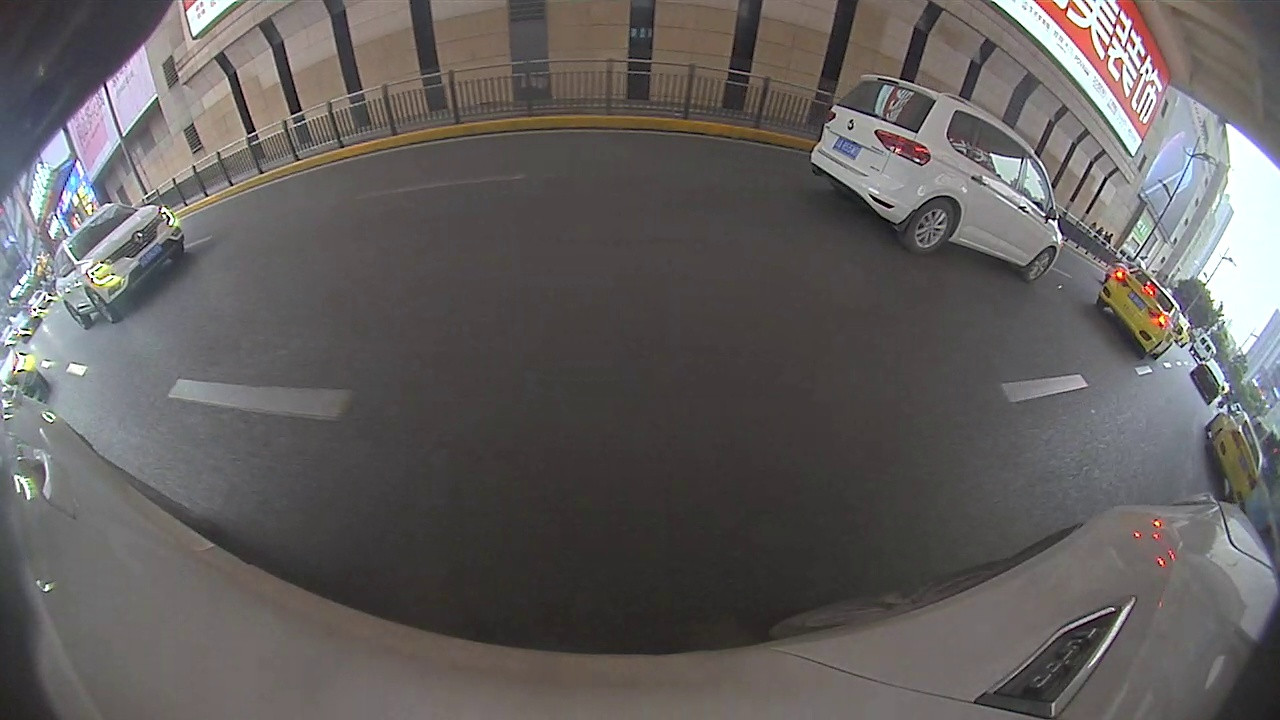car: (809, 71, 1064, 283), (52, 199, 187, 332), (1093, 264, 1186, 362), (1203, 405, 1264, 503)
front: (1022, 248, 1058, 285), (85, 285, 117, 325)
rear: (904, 199, 957, 255), (65, 305, 90, 332)
